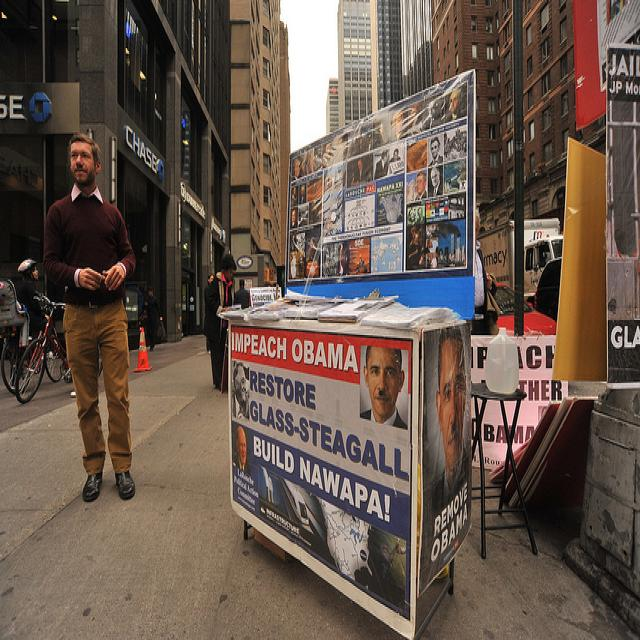Vehicle: (479, 220, 562, 310), (492, 281, 556, 337), (535, 258, 562, 322)
